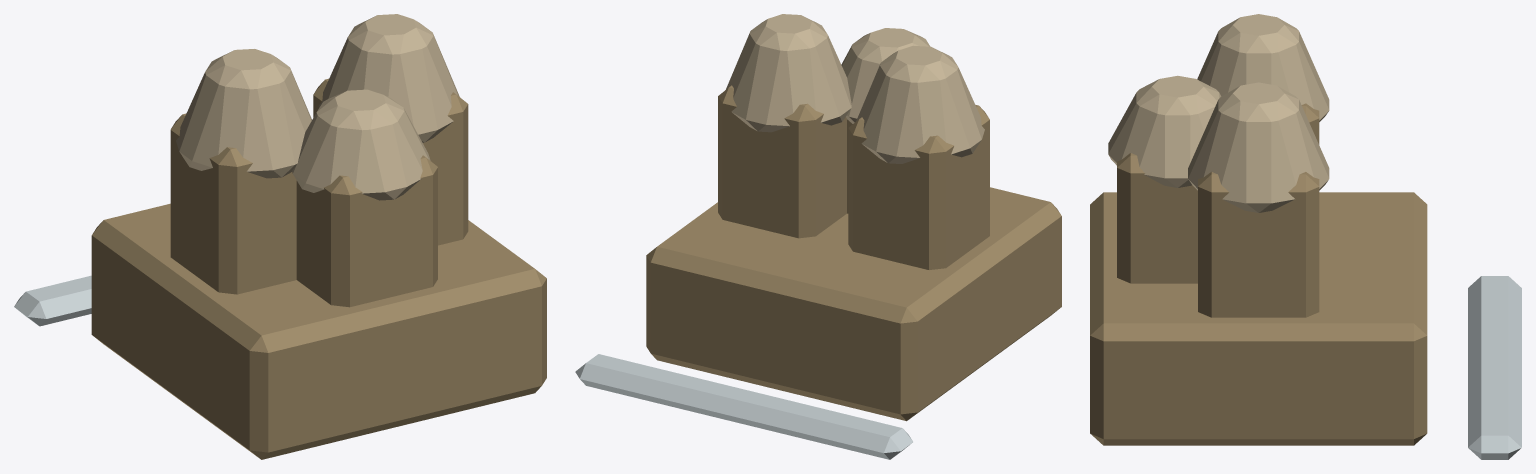
Rendered from PRP_SandCastle_BCH_v001.glb.
3 views of the same model, side by side, from view 1: azimuth 30°, elevation 25°; view 2: azimuth 150°, elevation 25°; view 3: azimuth 270°, elevation 25° (orthographic). The views are drawn at different scales.
Parts seen in each view (by area): view 1: PRP_SandCastle_BCH_v001; view 2: PRP_SandCastle_BCH_v001; view 3: PRP_SandCastle_BCH_v001.
Part boxes in pixels (x1,y1,x2,y2): PRP_SandCastle_BCH_v001: (14, 14, 546, 459); PRP_SandCastle_BCH_v001: (575, 14, 1061, 459); PRP_SandCastle_BCH_v001: (1090, 14, 1521, 459).
Bounding box in the file's own units: 0.6 × 0.525 × 0.64.
